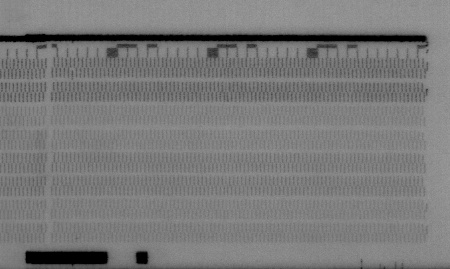Oblique printing: (421, 57, 433, 73), (421, 82, 433, 97), (422, 199, 434, 214), (67, 69, 78, 81)
